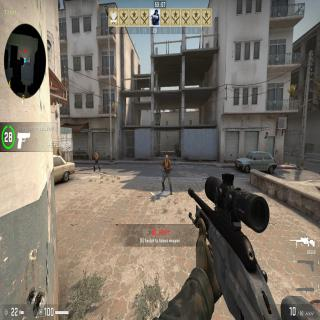T-Body: (160, 153, 173, 193), (92, 151, 101, 172)
T-Head: (166, 154, 168, 160), (95, 151, 97, 154)
